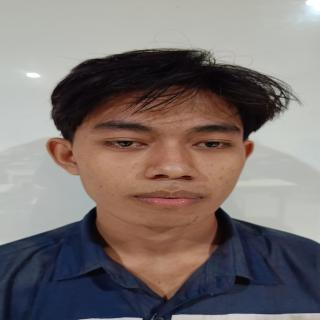Netral: (67, 71, 259, 239)
